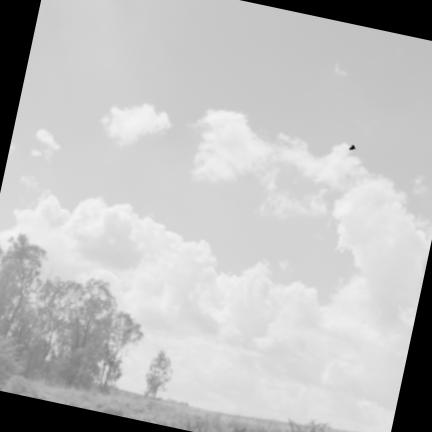Shahed: (349, 145, 355, 150)
